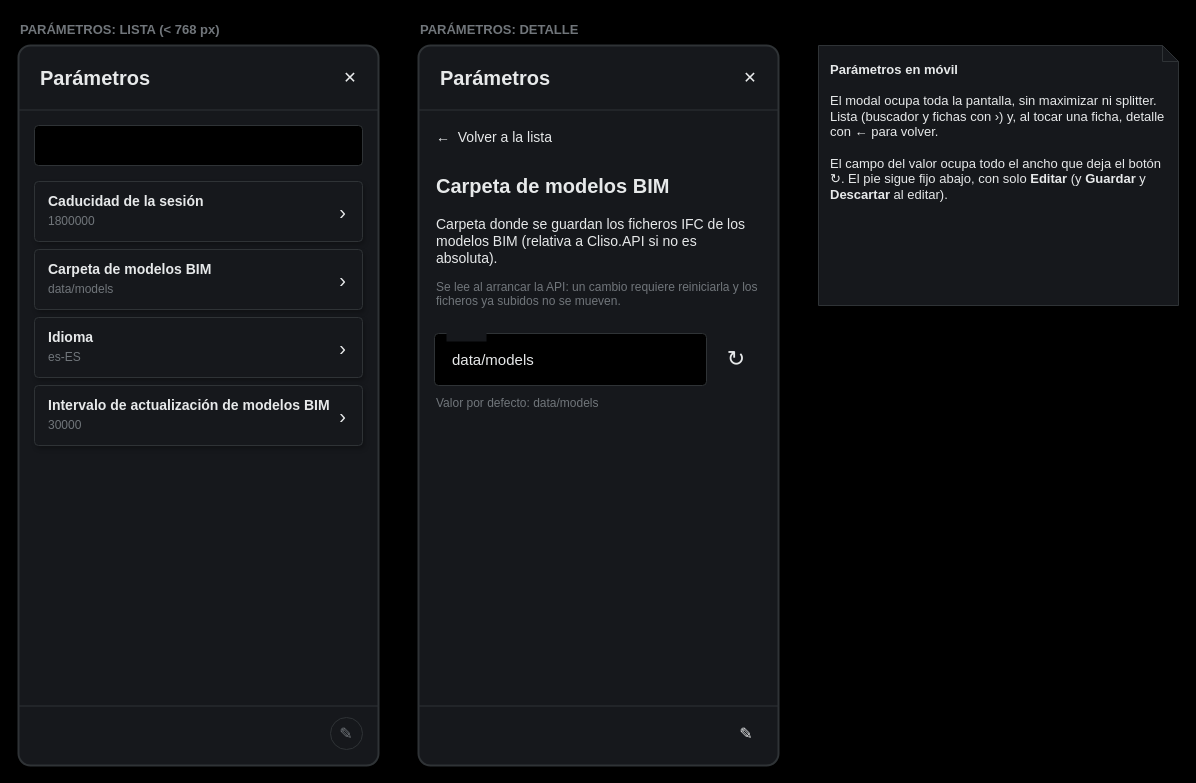
This 1196x783 diagram has some shape labels left out. Each missing label, with the centre of its shape:
"Valor" belongs at [466,333].
"⌕ Buscar parámetro" belongs at [198,145].
